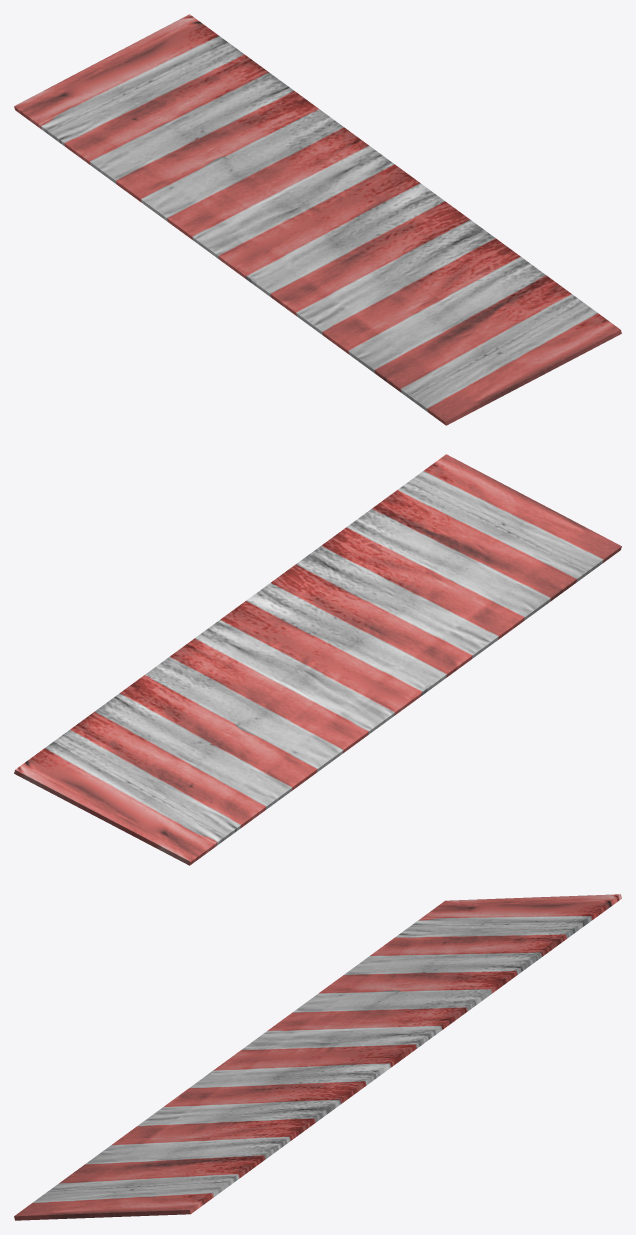
The model's file is fabric_06.fbx.
The picture shows the model from 3 angles, top to bottom: view 1: azimuth 30°, elevation 25°; view 2: azimuth 150°, elevation 25°; view 3: azimuth 330°, elevation 25°; orthographic projection.
Visible parts, largest first — view 1: fabric_06; view 2: fabric_06; view 3: fabric_06.
Boxes of the visible parts, box(x1,y1,x2,y2) form: fabric_06: box(14, 14, 621, 425); fabric_06: box(14, 454, 621, 865); fabric_06: box(14, 894, 621, 1220).
Bounding box in the file's own units: 1.65 × 0.4755 × 6.96.
